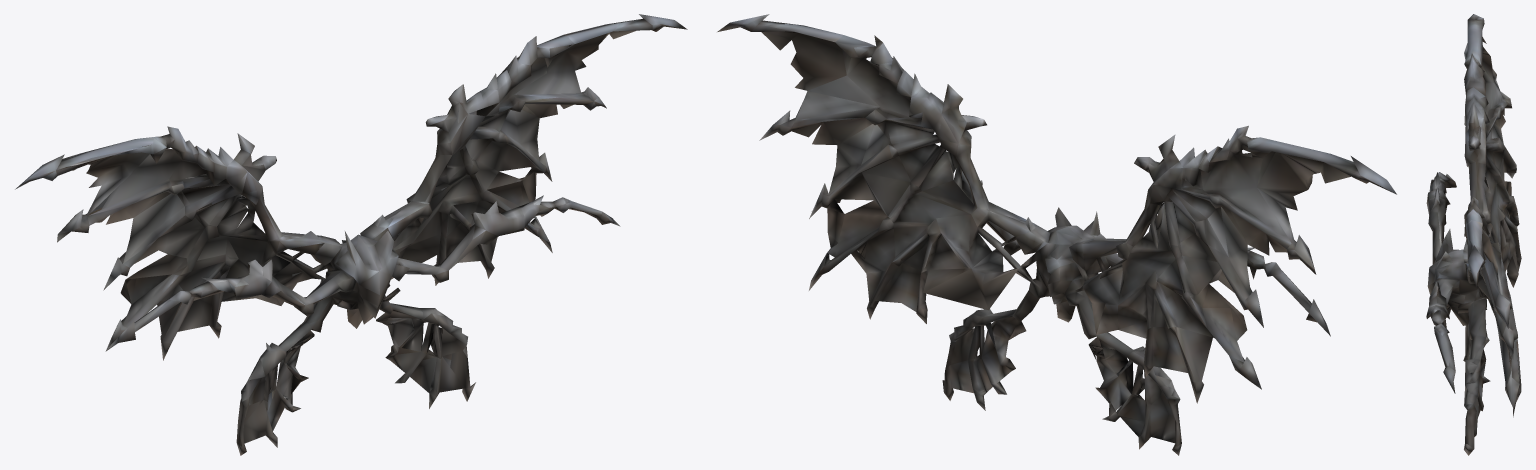
File: 3000钢铁翅膀4.fbx
3 views of the same model, side by side, from view 1: azimuth 30°, elevation 25°; view 2: azimuth 150°, elevation 25°; view 3: azimuth 270°, elevation 25° (orthographic). The views are drawn at different scales.
Parts seen in each view (by area): view 1: geometry_0.004; view 2: geometry_0.004; view 3: geometry_0.004.
Part boxes in pixels (x1,y1,x2,y2): geometry_0.004: [15, 14, 687, 455]; geometry_0.004: [717, 14, 1396, 455]; geometry_0.004: [1426, 14, 1521, 455].
Size of the model in its own units: 99.58 by 49.14 by 14.89.
